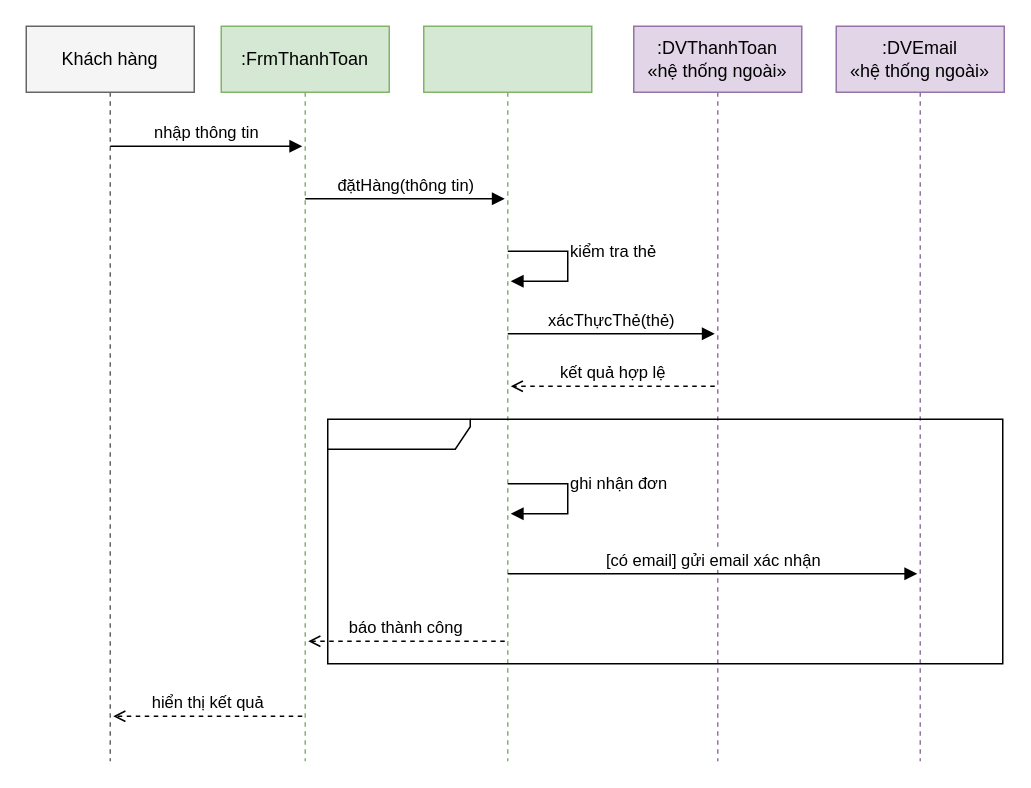
Some shapes in this 1031 by 788 pixel diagram are drawn without their labels. Here are the shapes that lost their labels. From the top down, the box of each, then its label:
(422, 25, 592, 761): :DonHangCtrl
(326, 418, 1003, 664): alt [hợp lệ]
